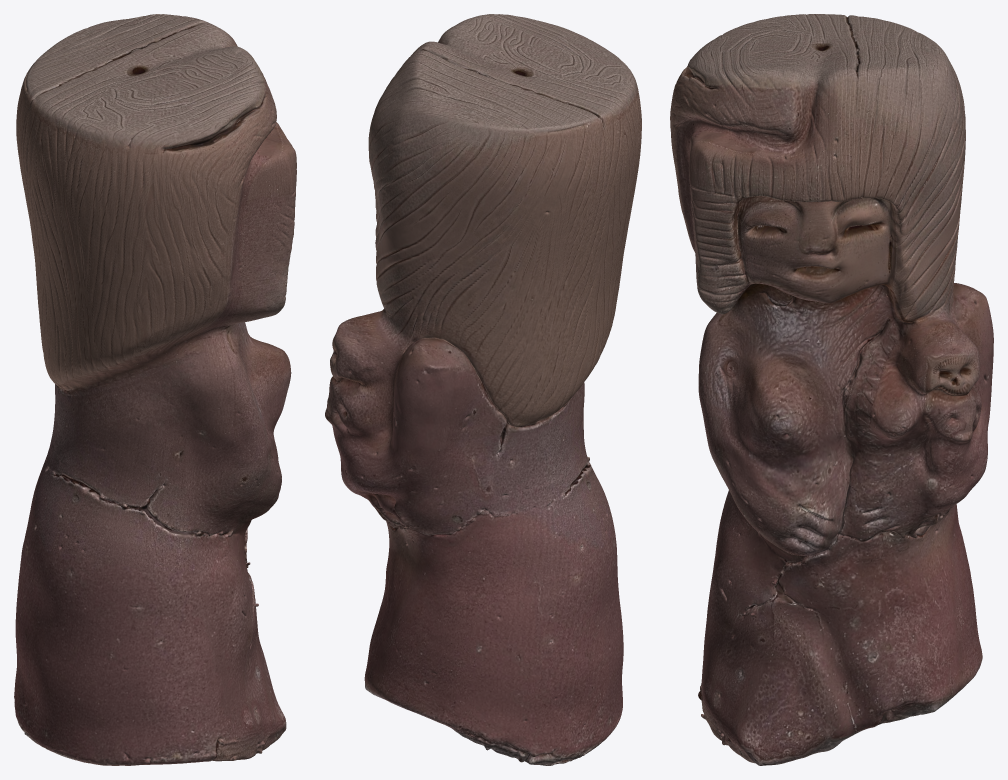
Rendered from valdivia.glb.
3 renders of one model, left to right at view 1: azimuth 30°, elevation 25°; view 2: azimuth 150°, elevation 25°; view 3: azimuth 270°, elevation 25°, orthographic. The views are drawn at different scales.
Parts seen in each view (by area): view 1: tripo_node_f560e139-c832-42d7-93a6-01cfcb129198; view 2: tripo_node_f560e139-c832-42d7-93a6-01cfcb129198; view 3: tripo_node_f560e139-c832-42d7-93a6-01cfcb129198.
Part boxes in pixels (box(x1,y1,x2,y2)): tripo_node_f560e139-c832-42d7-93a6-01cfcb129198: box(14, 14, 296, 765); tripo_node_f560e139-c832-42d7-93a6-01cfcb129198: box(325, 14, 641, 765); tripo_node_f560e139-c832-42d7-93a6-01cfcb129198: box(670, 14, 993, 765).
Bounding box in the file's own units: 0.3532 × 1 × 0.4233.
1 material, 1 textured.
